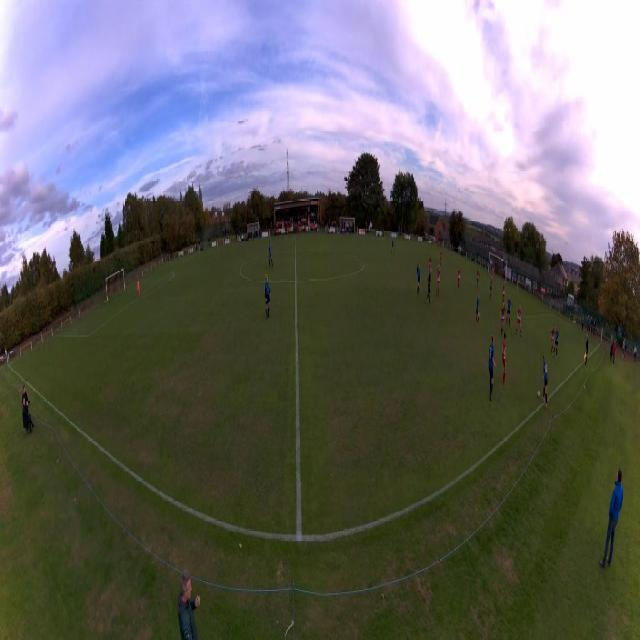ball: (537, 391, 541, 399)
player: (487, 334, 496, 402), (502, 332, 508, 387), (264, 274, 271, 320), (542, 355, 548, 399), (552, 323, 559, 360), (515, 305, 522, 337), (426, 268, 432, 305), (500, 302, 506, 337), (506, 293, 511, 329), (268, 241, 274, 268), (475, 293, 480, 325), (417, 265, 422, 295), (550, 324, 555, 353), (436, 266, 440, 296), (502, 281, 506, 305), (457, 266, 461, 290), (490, 276, 493, 300), (476, 267, 479, 288), (137, 278, 140, 299), (429, 255, 432, 274), (391, 236, 394, 254), (440, 250, 442, 267), (492, 266, 494, 281)
